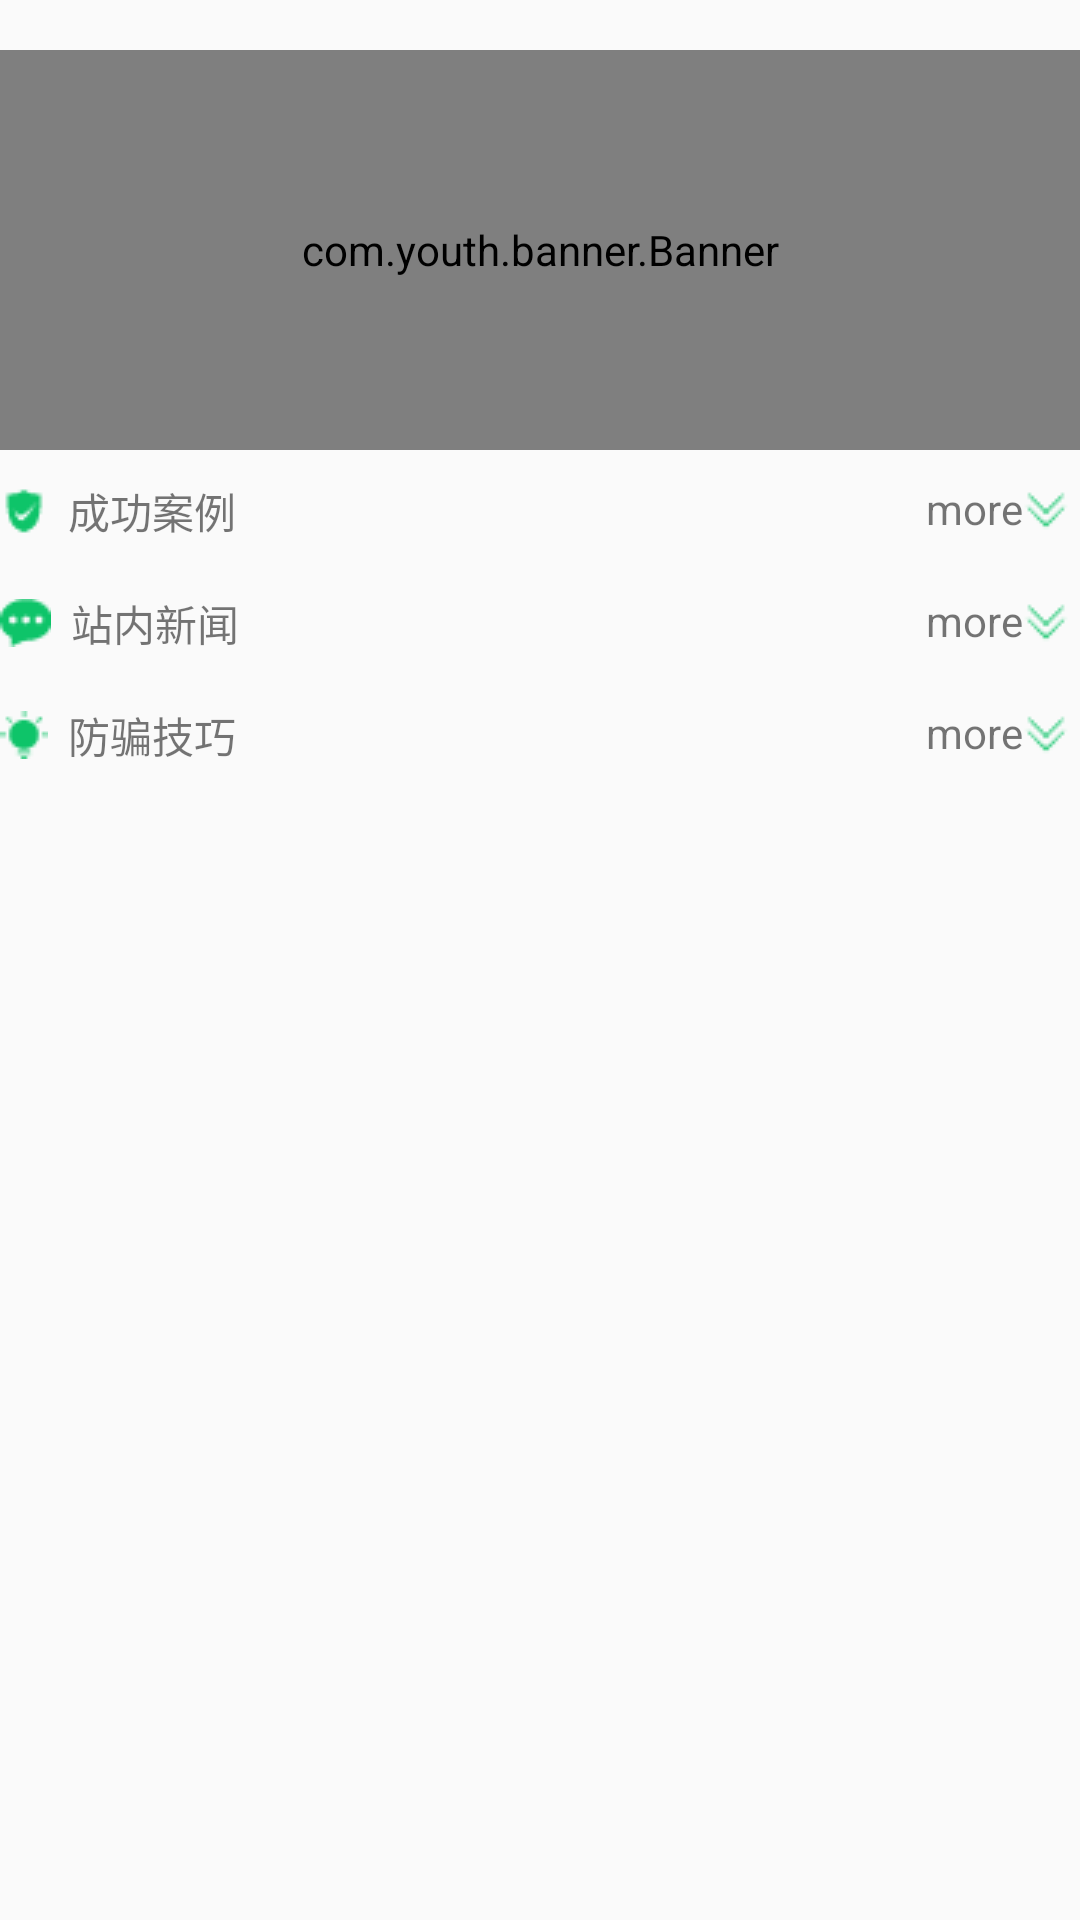

Icon bounding boxes for this 1080*1920 phone screenshot, format (x1, y1, x2, y2):
news: (0, 599, 51, 647)
paysuccess: (5, 489, 43, 533)
tips: (0, 711, 48, 759)
